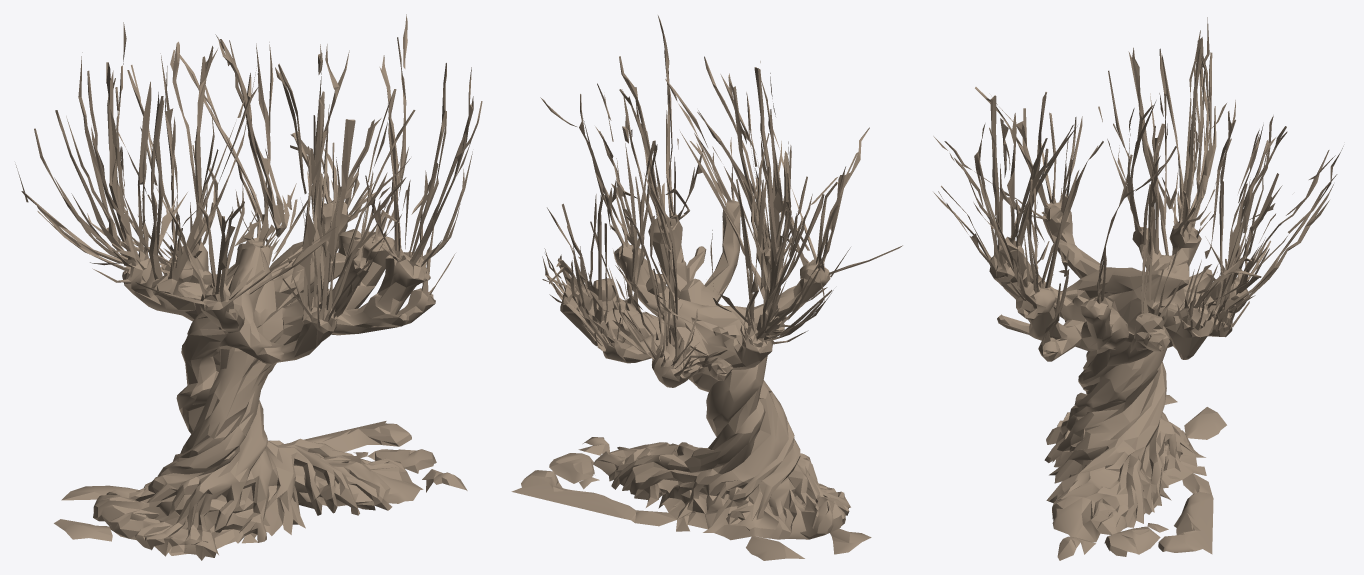
Rendered from willow.lo.glb.
The picture shows the model from 3 angles, left to right: view 1: azimuth 30°, elevation 25°; view 2: azimuth 150°, elevation 25°; view 3: azimuth 270°, elevation 25°; orthographic projection. The views are drawn at different scales.
Visible parts, largest first — view 1: output_unwrapped; view 2: output_unwrapped; view 3: output_unwrapped.
Part boxes in pixels (x1=…): output_unwrapped: x1=15, y1=14, x2=482, y2=560; output_unwrapped: x1=511, y1=15, x2=902, y2=560; output_unwrapped: x1=933, y1=17, x2=1343, y2=560.
Size of the model in its own units: 13.24 by 16.15 by 14.42.
